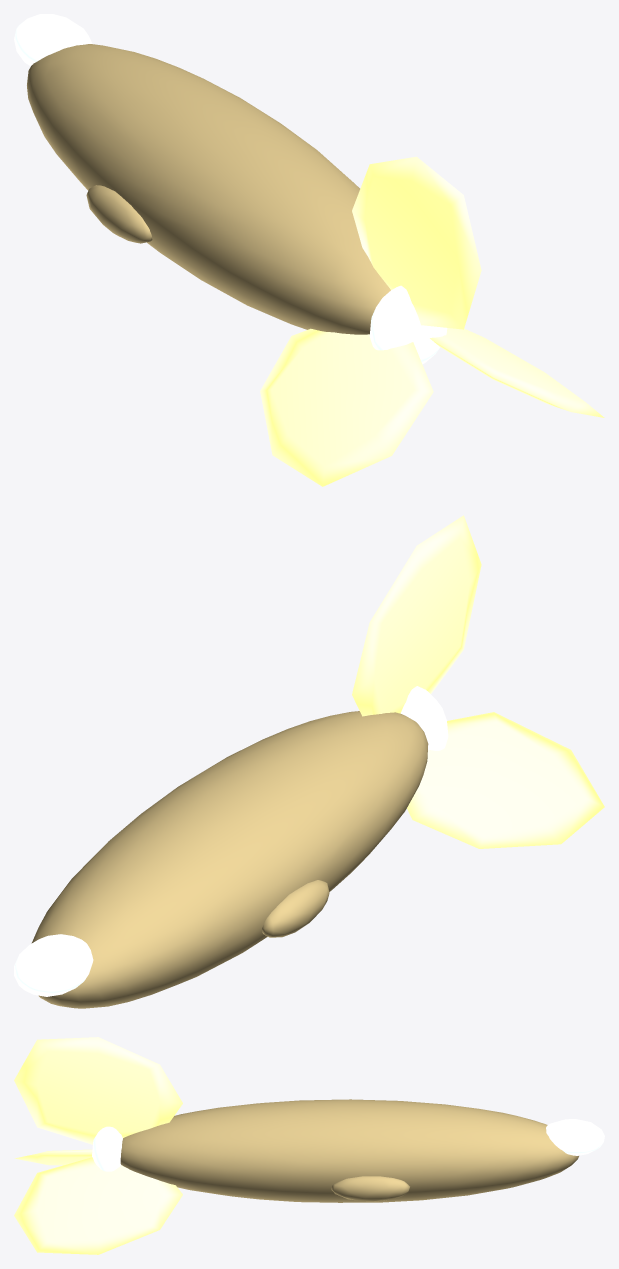
File: nave_lcd.glb
3 renders of one model, top to bottom at view 1: azimuth 30°, elevation 25°; view 2: azimuth 150°, elevation 25°; view 3: azimuth 270°, elevation 25°, orthographic. The views are drawn at different scales.
Visible parts, largest first — view 1: nave_lcd; view 2: nave_lcd; view 3: nave_lcd.
Boxes of the visible parts, box(x1,y1,x2,y2) form: nave_lcd: box(14, 14, 604, 486); nave_lcd: box(14, 515, 604, 1008); nave_lcd: box(14, 1037, 604, 1254).
Bounding box in the file's own units: 0.4317 × 0.3763 × 1.17.
